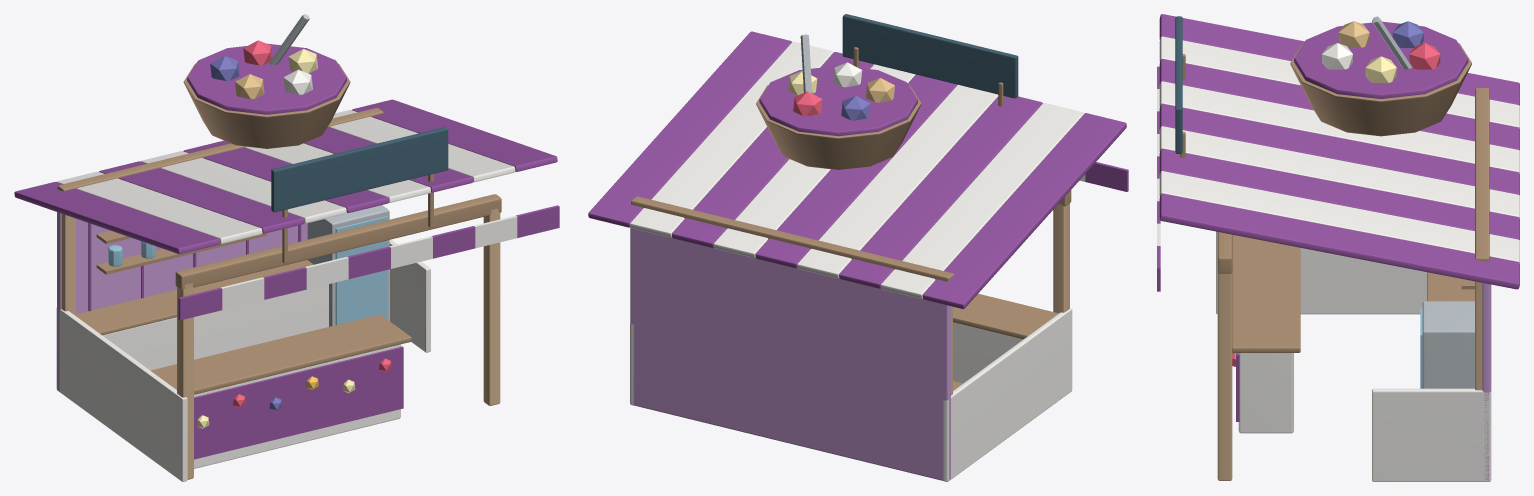
File: AcaiShack.fbx
3 views of the same model, side by side, from view 1: azimuth 30°, elevation 25°; view 2: azimuth 150°, elevation 25°; view 3: azimuth 270°, elevation 25° (orthographic). The views are drawn at different scales.
Visible parts, largest first — view 1: AcaiShack; view 2: AcaiShack; view 3: AcaiShack.
Part boxes in pixels (x1,y1,x2,y2): AcaiShack: (14, 14, 559, 481); AcaiShack: (588, 14, 1128, 481); AcaiShack: (1157, 14, 1519, 481).
Bounding box in the file's own units: 5.2 × 4.8 × 3.95.
